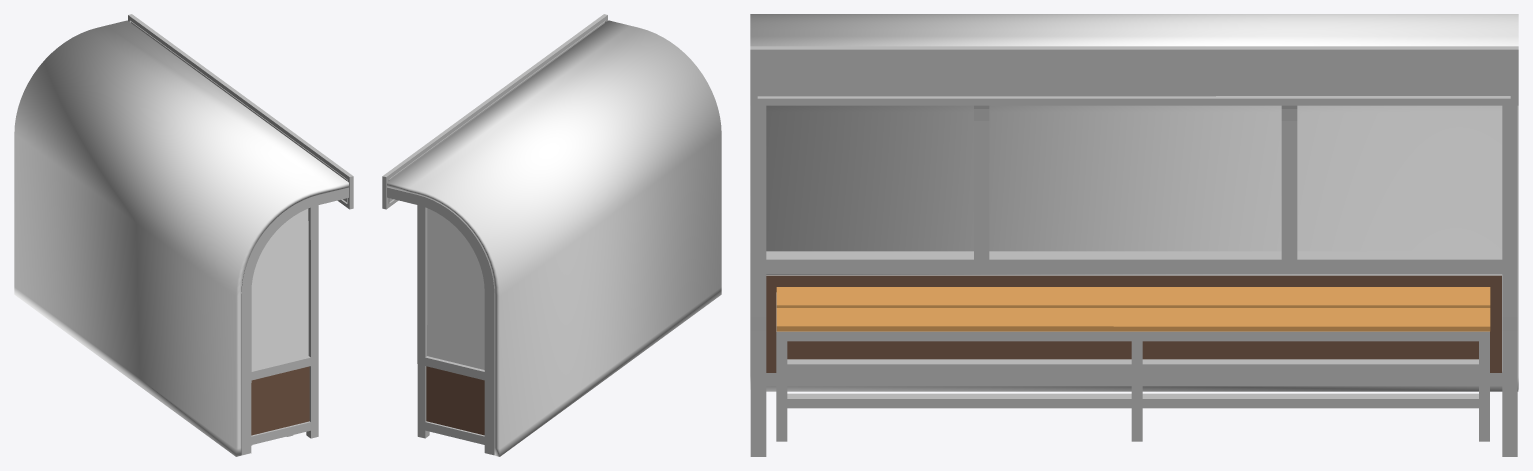
The model's file is Soccerbench.obj.
The picture shows the model from 3 angles, left to right: view 1: azimuth 30°, elevation 25°; view 2: azimuth 150°, elevation 25°; view 3: azimuth 270°, elevation 25°; orthographic projection. The views are drawn at different scales.
Parts seen in each view (by area): view 1: soccerbench; view 2: soccerbench; view 3: soccerbench.
Part boxes in pixels (x1,y1,x2,y2): soccerbench: (14, 14, 353, 456); soccerbench: (382, 14, 721, 456); soccerbench: (750, 14, 1518, 456).
Size of what is drawn, in the model's own units: 4.5 by 9.22 by 14.71.
